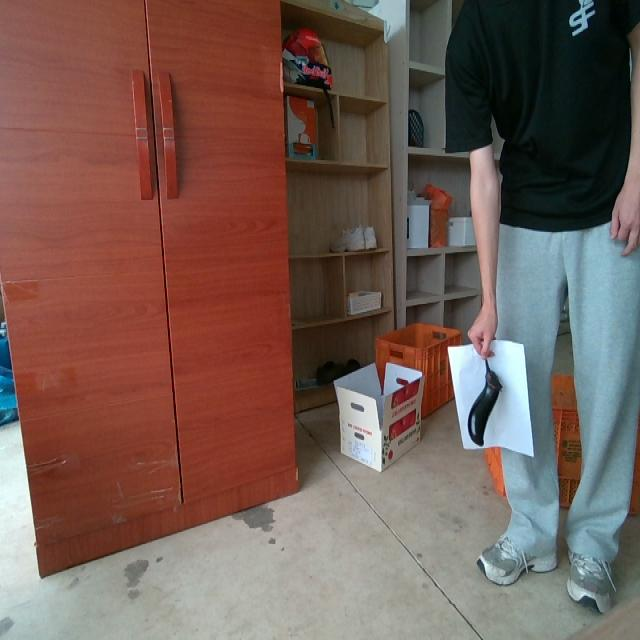Egg plant: (468, 360, 501, 445)
